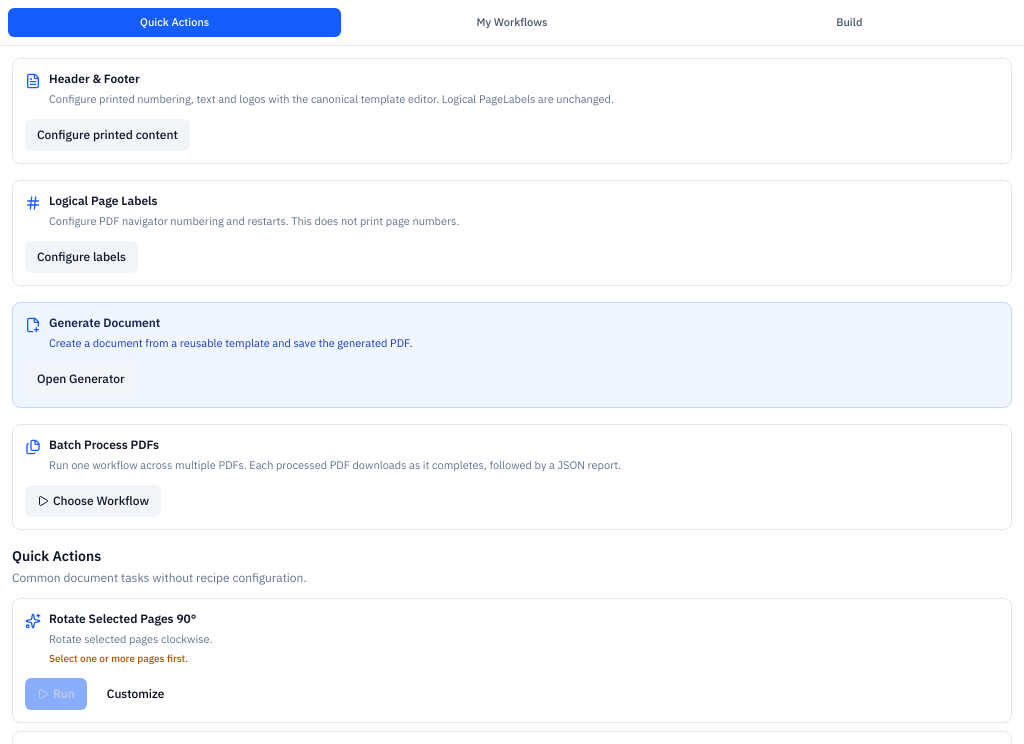
Test: AutomateSidebar › opens Generate Document directly from Quick Actions
Click the button "Open Generator".
click(81, 378)  # box x1=25 y1=362 x2=137 y2=394
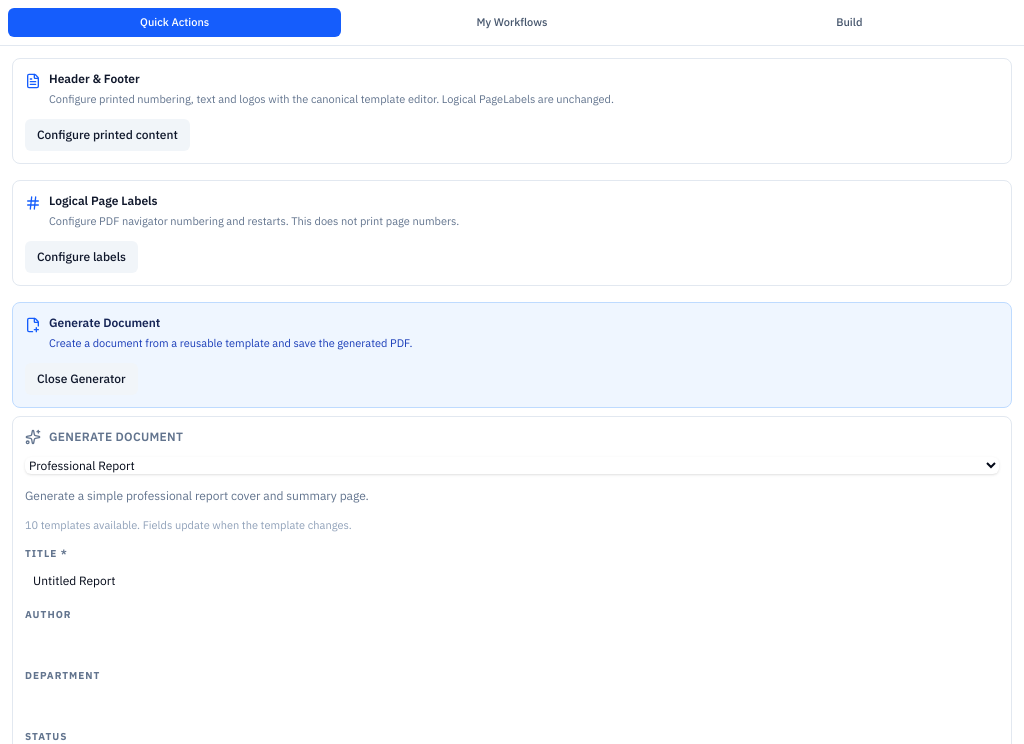
Result: the button "Close Generator" is shown at x1=25 y1=362 x2=138 y2=394
